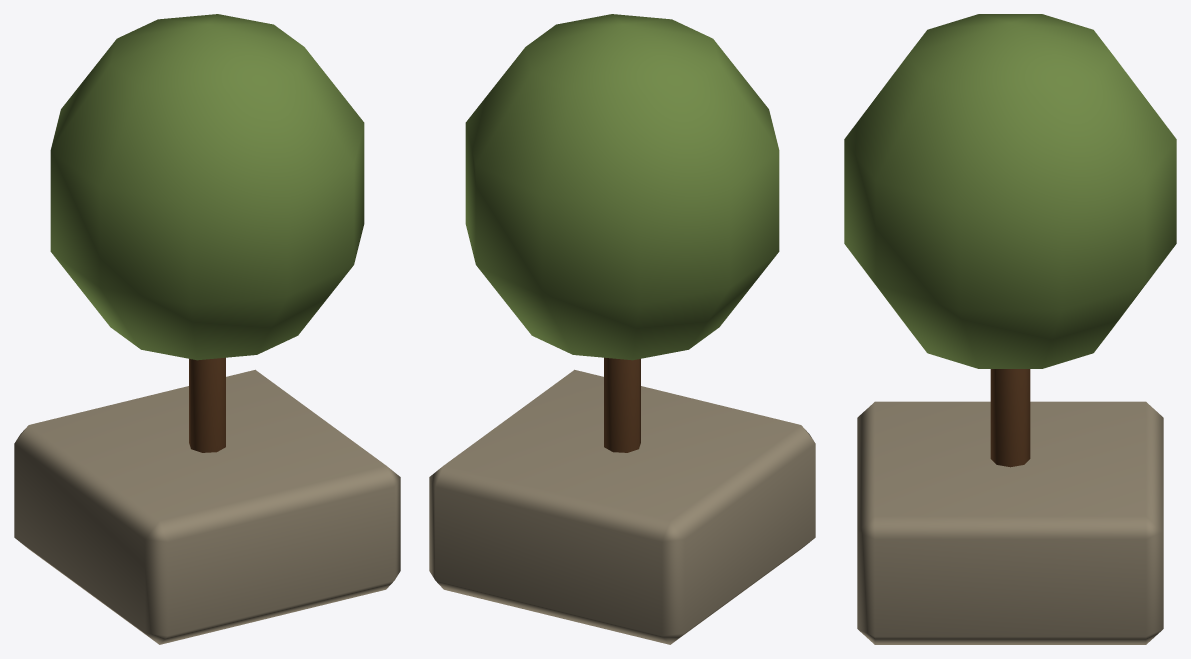
Rendered from planter.glb.
3 views of the same model, side by side, from view 1: azimuth 30°, elevation 25°; view 2: azimuth 150°, elevation 25°; view 3: azimuth 270°, elevation 25° (orthographic). The views are drawn at different scales.
Parts seen in each view (by area): view 1: planter; view 2: planter; view 3: planter.
Boxes of the visible parts, box(x1,y1,x2,y2) form: planter: box(14, 14, 400, 644); planter: box(429, 14, 815, 644); planter: box(844, 14, 1176, 644).
Bounding box in the file's own units: 1.45 × 2.85 × 1.52.
